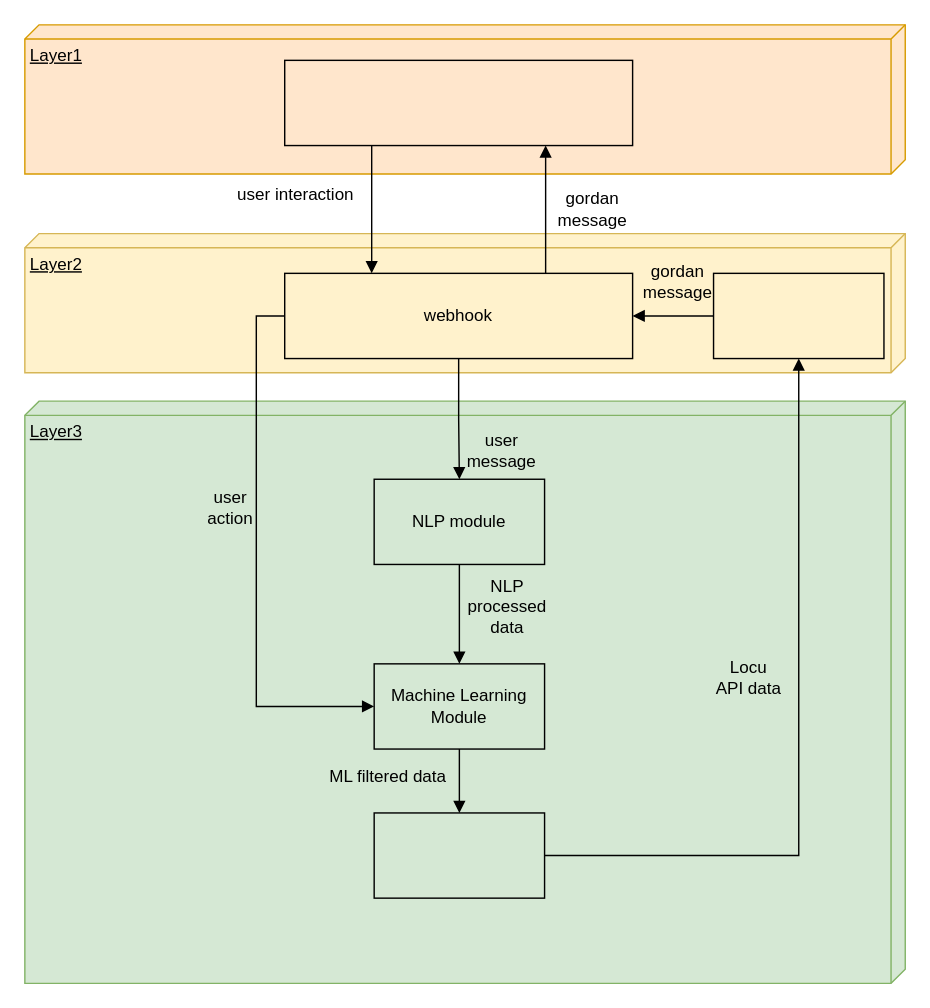
This 930x1008 diagram has some shape labels left out. Here are the shapes that lost their labels. From the top down, the centre of each, then its label:
[458,102]: messenger (facebook/slack)
[798,315]: Gordan message generator
[459,855]: Locu API
